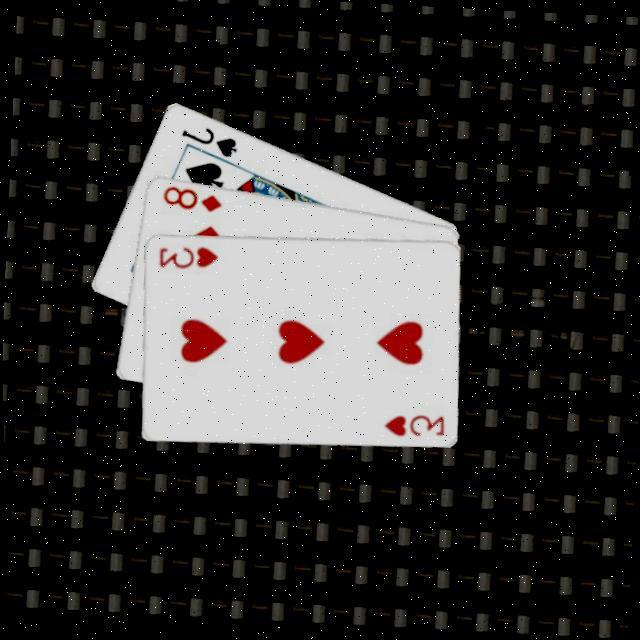3H: (156, 239, 221, 272), (380, 407, 447, 439)
8D: (160, 180, 227, 212)
JS: (178, 120, 242, 160)
